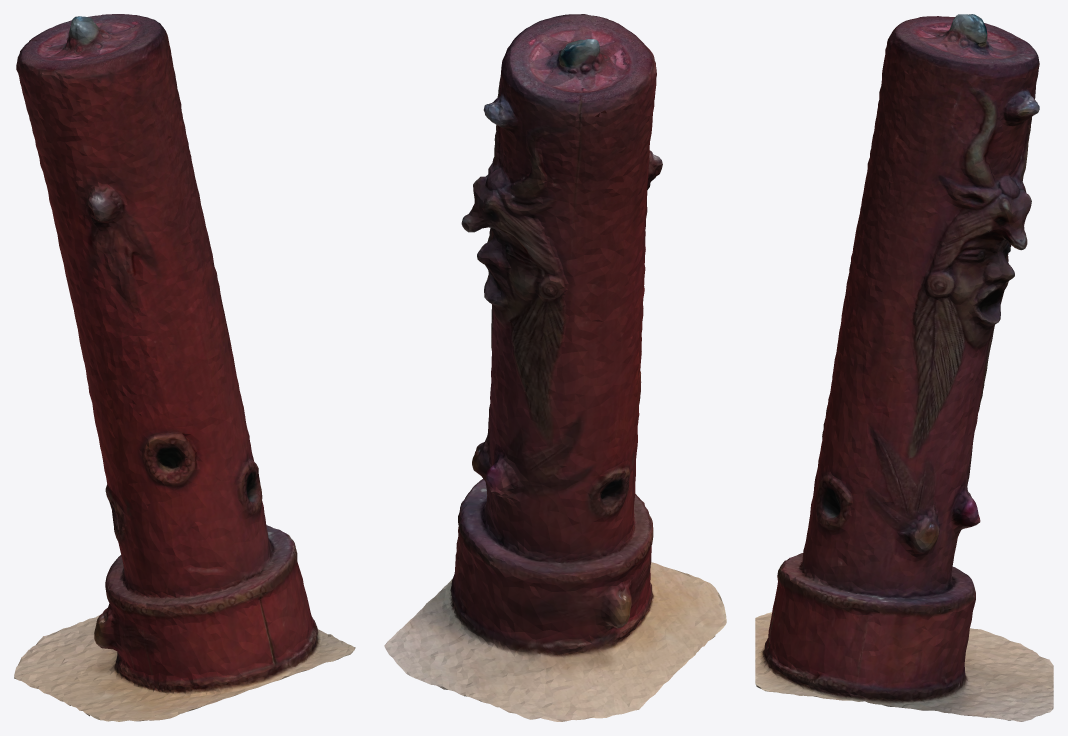
The model's file is 7 feb. 2023.obj.
3 renders of one model, left to right at view 1: azimuth 30°, elevation 25°; view 2: azimuth 150°, elevation 25°; view 3: azimuth 270°, elevation 25°, orthographic.
Bounding box in the file's own units: 0.4007 × 1.06 × 0.4458.
Materials: 1 (1 with a texture image).
